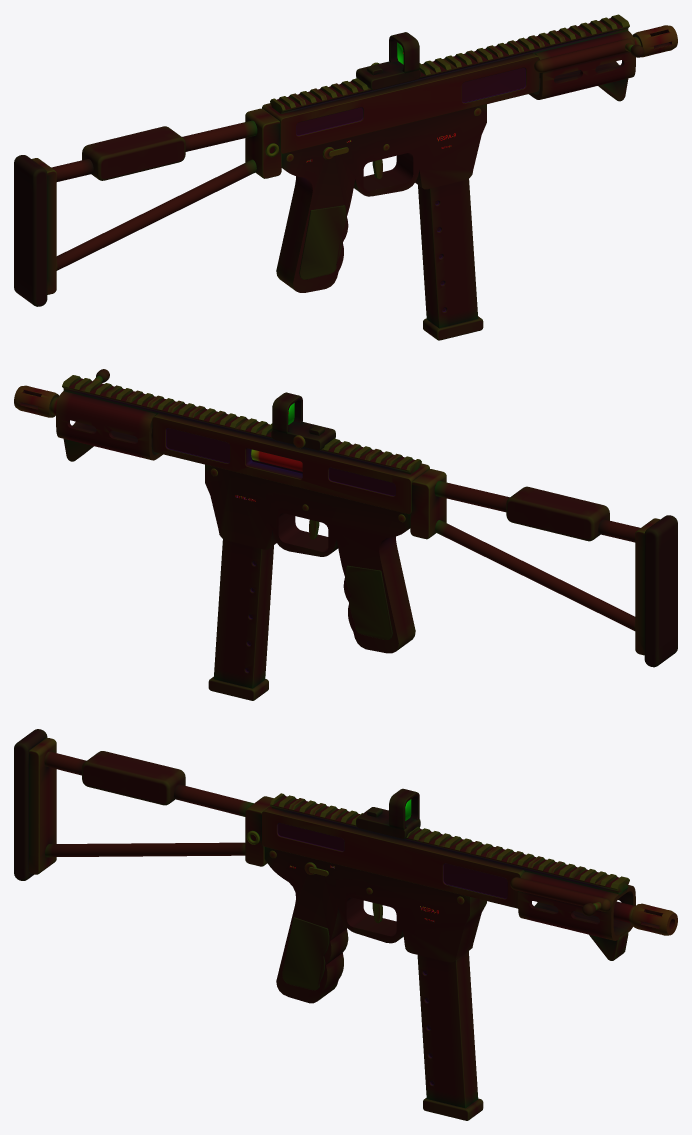
The model's file is vespa9.glb.
3 renders of one model, top to bottom at view 1: azimuth 30°, elevation 25°; view 2: azimuth 150°, elevation 25°; view 3: azimuth 330°, elevation 25°, orthographic.
Parts seen in each view (by area): view 1: base; view 2: base; view 3: base.
Boxes of the visible parts, bbox=[...] form: base: bbox=[14, 14, 677, 340]; base: bbox=[14, 369, 677, 700]; base: bbox=[14, 729, 677, 1120].
Bounding box in the file's own units: 0.626 × 0.2815 × 0.0675.
